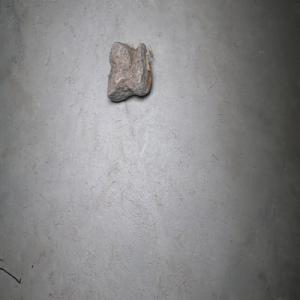Rock: (106, 41, 153, 101)
